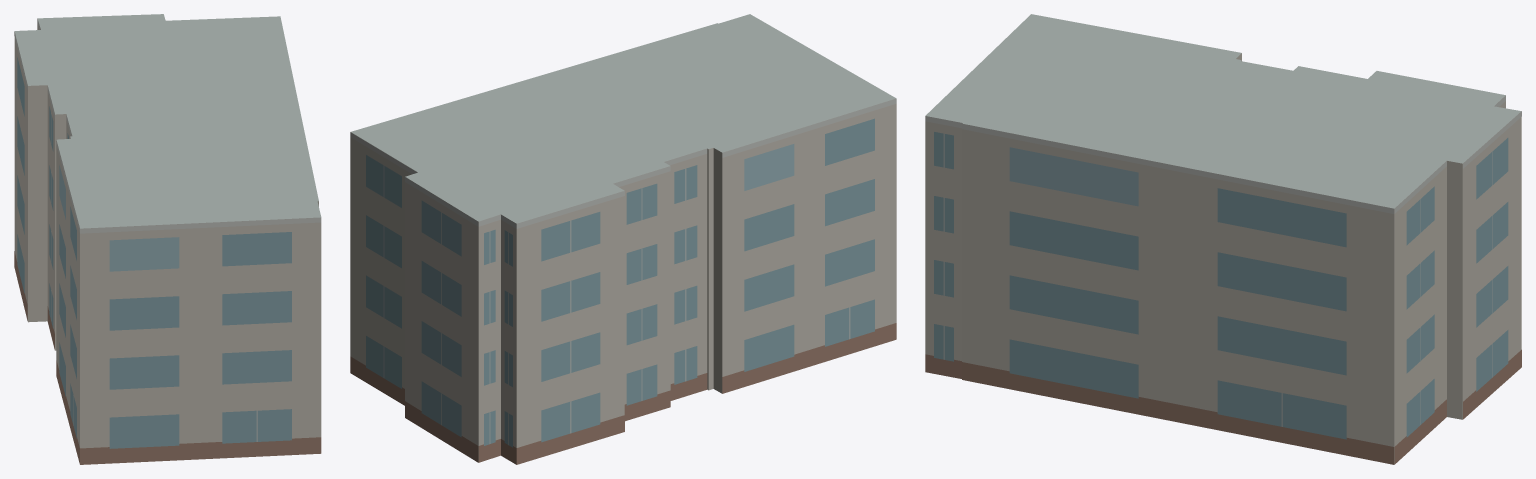
File: survey-upis-32948251.glb
3 views of the same model, side by side, from view 1: azimuth 30°, elevation 25°; view 2: azimuth 150°, elevation 25°; view 3: azimuth 270°, elevation 25° (orthographic). The views are drawn at different scales.
Visible parts, largest first — view 1: survey-upis-32948251.tmp; view 2: survey-upis-32948251.tmp; view 3: survey-upis-32948251.tmp.
Boxes of the visible parts, left/top/right/bottom form: survey-upis-32948251.tmp: left=14, top=14, right=321, bottom=464; survey-upis-32948251.tmp: left=350, top=14, right=896, bottom=464; survey-upis-32948251.tmp: left=925, top=14, right=1521, bottom=464.
Bounding box in the file's own units: 18.47 × 11.33 × 23.91.
